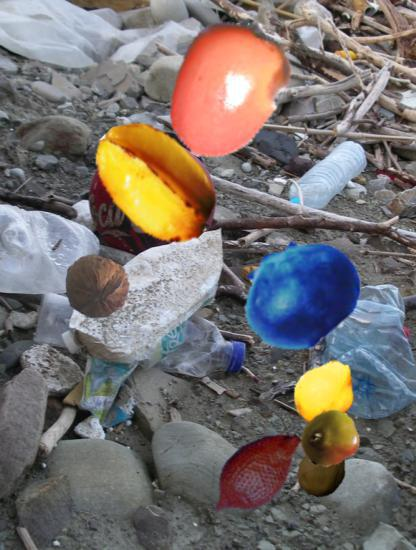Apple: (301, 409, 361, 469)
Carambula: (87, 112, 226, 251)
Huckleberry: (238, 232, 361, 355)
Kaki: (154, 16, 302, 164)
Papaya: (295, 442, 351, 498)
Quince: (288, 357, 362, 431)
Salak: (200, 418, 312, 530)
Walnut: (63, 253, 130, 320)
